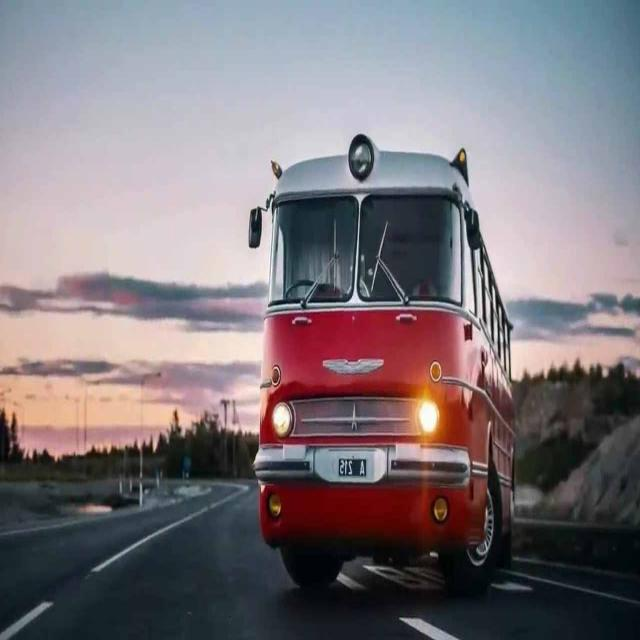bus: (245, 123, 523, 603)
